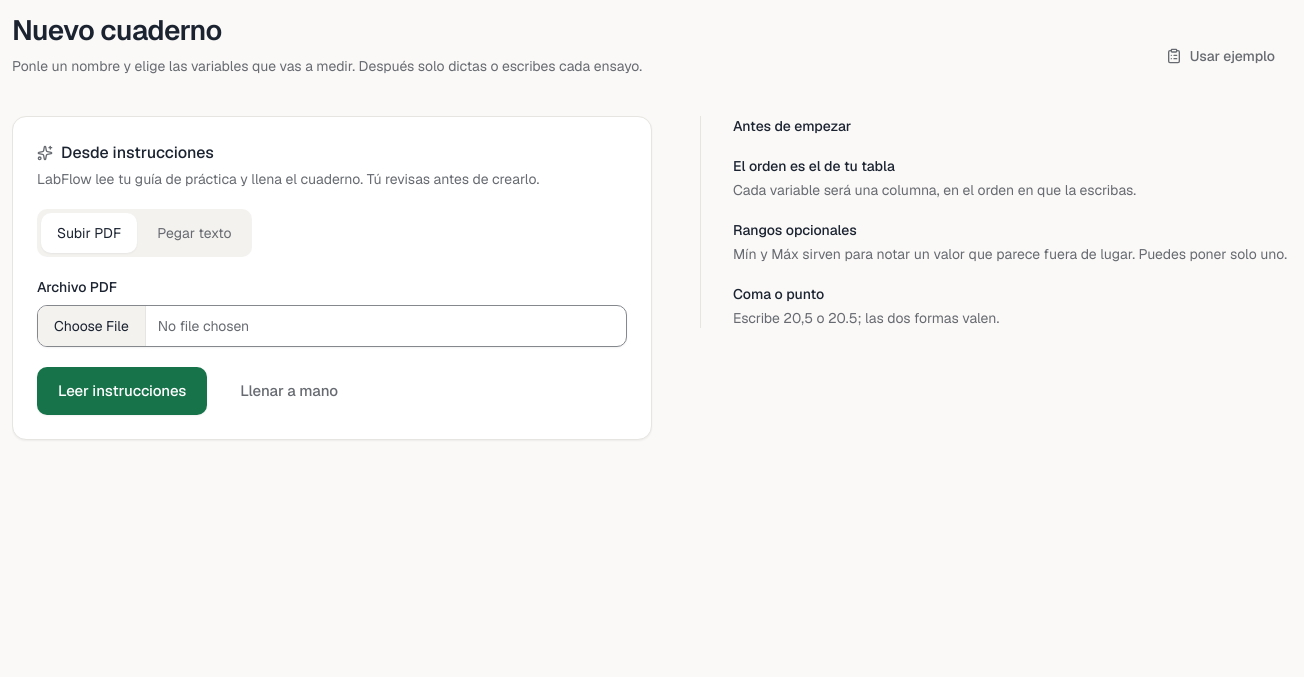
Test: the panel (AC-19, AC-20, AC-35) › Llenar a mano hides the panel; the link opens it again
The image size is (1304, 677).
Click the button "Llenar a mano" at (289, 391), box left=219, top=367, right=359, bottom=415
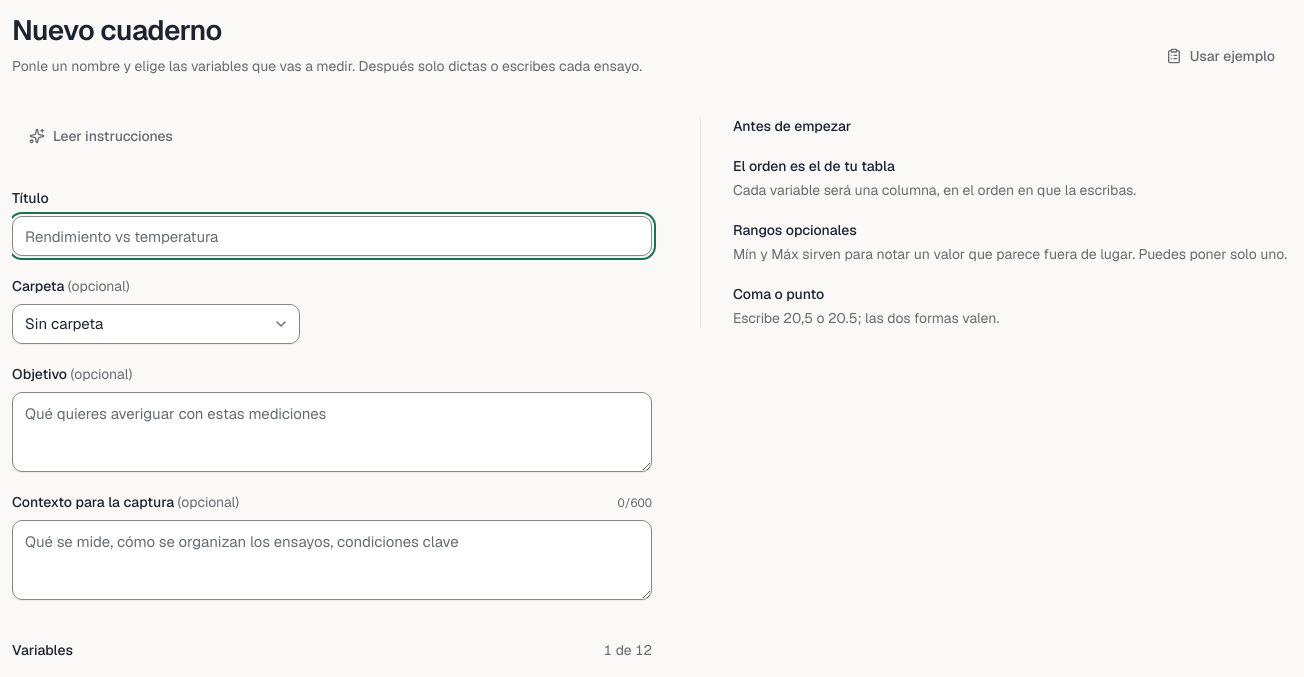
Result: the label labelled "Archivo PDF" is gone
Click the button "Leer instrucciones" at (101, 136), box left=12, top=116, right=190, bottom=156
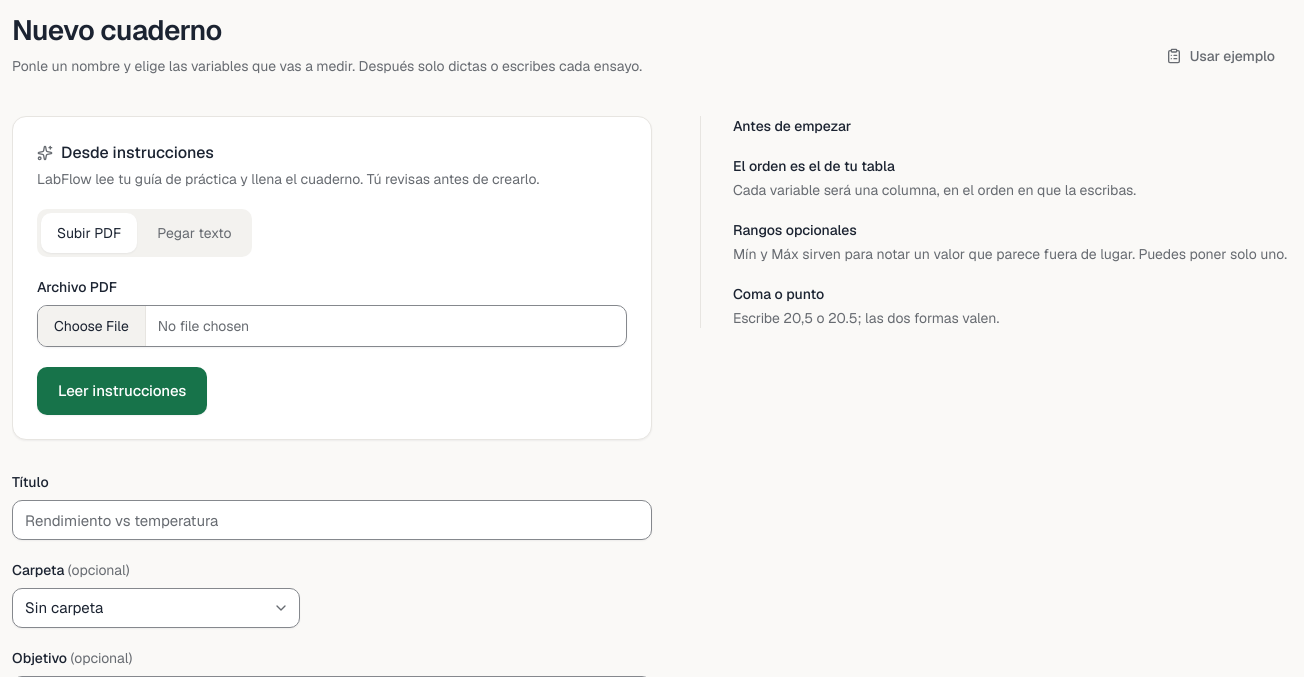
Result: the file field labelled "Archivo PDF" is shown at left=37, top=305, right=627, bottom=347
